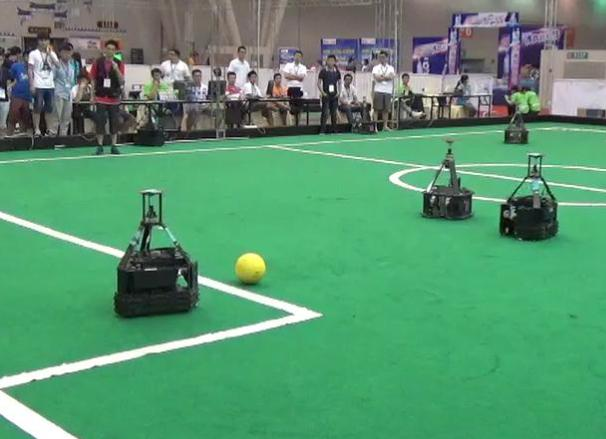robot: (111, 185, 205, 320), (497, 148, 566, 241), (419, 133, 476, 223)
